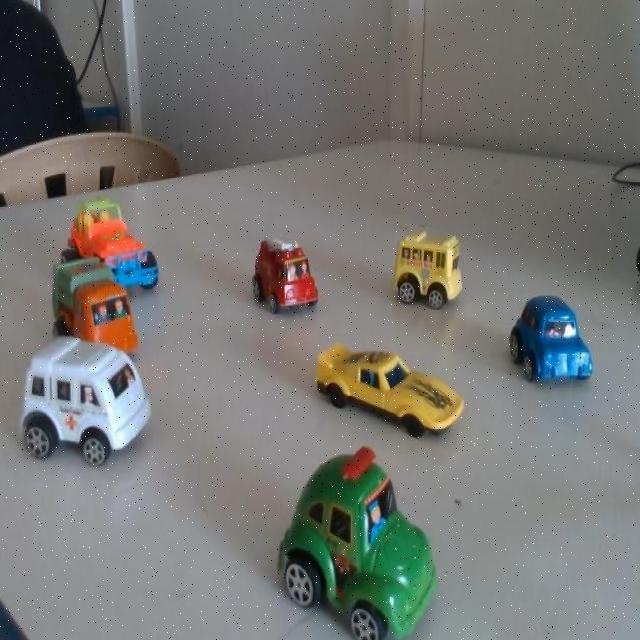car: (288, 452, 447, 640), (26, 316, 170, 492), (327, 330, 456, 449), (386, 226, 471, 324), (85, 195, 166, 296), (245, 224, 319, 330), (520, 292, 594, 391), (66, 250, 130, 360)
